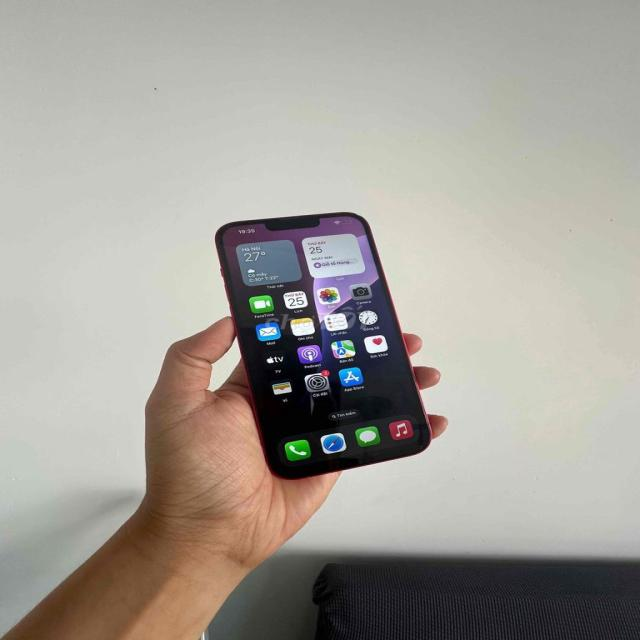gen_14: (210, 192, 444, 491)
